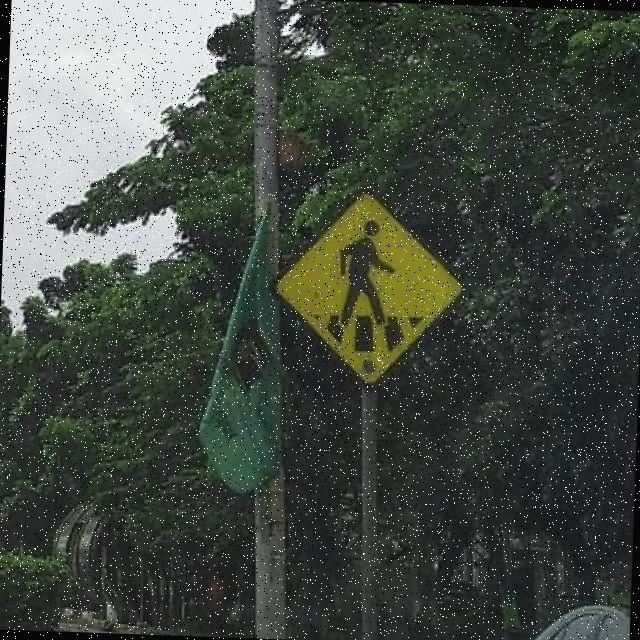Przejscie dla pieszych: (276, 192, 464, 384)
